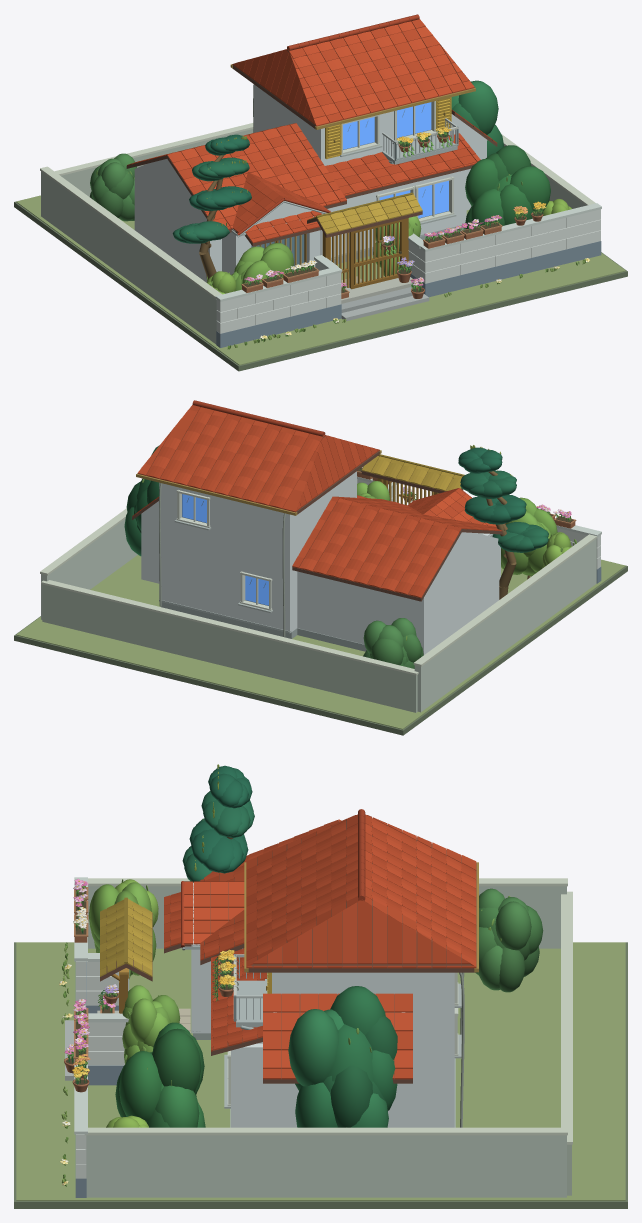
The model's file is flowerorangebuilding.glb.
The picture shows the model from 3 angles, top to bottom: view 1: azimuth 30°, elevation 25°; view 2: azimuth 150°, elevation 25°; view 3: azimuth 270°, elevation 25°; orthographic projection. The views are drawn at different scales.
Parts seen in each view (by area): view 1: 砌块围墙与门屋, 橙瓦组合屋面, 庭院花木, 地块与院内通道, 白墙与凹入窗洞, 门窗与阳台; view 2: 砌块围墙与门屋, 白墙与凹入窗洞, 橙瓦组合屋面, 地块与院内通道, 庭院花木, 门窗与阳台; view 3: 地块与院内通道, 砌块围墙与门屋, 橙瓦组合屋面, 庭院花木, 白墙与凹入窗洞, 门窗与阳台.
Part boxes in pixels (x1,y1,x2,y2): 砌块围墙与门屋: (40, 123, 601, 347); 橙瓦组合屋面: (126, 14, 497, 246); 庭院花木: (90, 80, 590, 349); 地块与院内通道: (14, 195, 627, 371); 白墙与凹入窗洞: (134, 84, 487, 282); 门窗与阳台: (251, 84, 458, 271); 砌块围墙与门屋: (40, 454, 601, 712); 白墙与凹入窗洞: (141, 471, 500, 654); 橙瓦组合屋面: (132, 400, 505, 601); 地块与院内通道: (14, 555, 627, 735); 庭院花木: (124, 445, 576, 668); 门窗与阳台: (159, 483, 285, 636); 地块与院内通道: (14, 942, 627, 1208); 砌块围墙与门屋: (74, 877, 572, 1197); 橙瓦组合屋面: (164, 809, 478, 1083); 庭院花木: (59, 764, 543, 1186); 白墙与凹入窗洞: (183, 883, 461, 1127); 门窗与阳台: (224, 954, 464, 1127).
Size of the model in its own units: 14 by 6.49 by 14.
